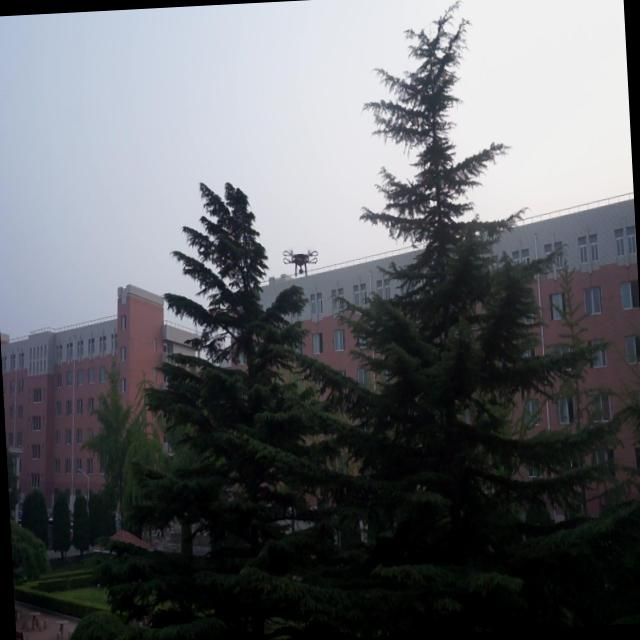drone: (281, 244, 321, 280)
